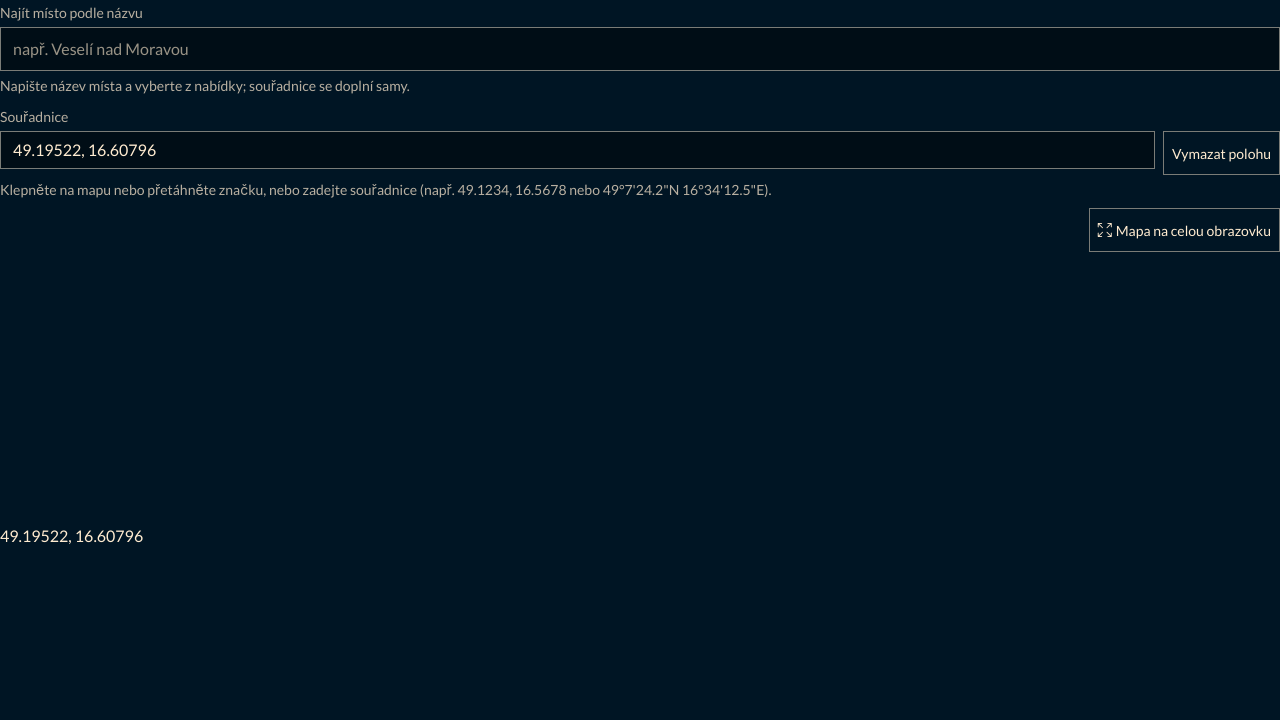
Test: LocationPicker full screen › moves the one map into a dialog and back
Click the button "Mapa na celou obrazovku": (1184, 230) x1=1089 y1=208 x2=1279 y2=252
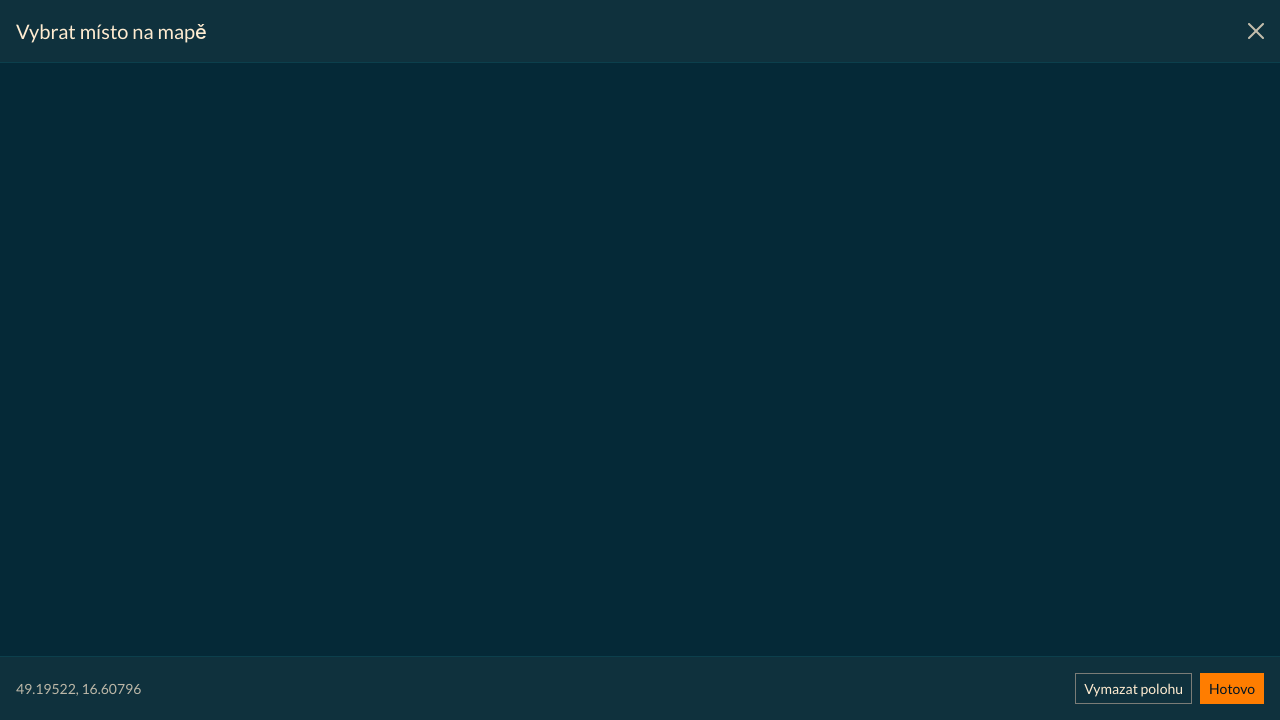
Now the text "49.19522, 16.60796" is shown, box x1=16 y1=678 x2=141 y2=699
Click the button "Hotovo": (1232, 688) x1=1200 y1=673 x2=1264 y2=704
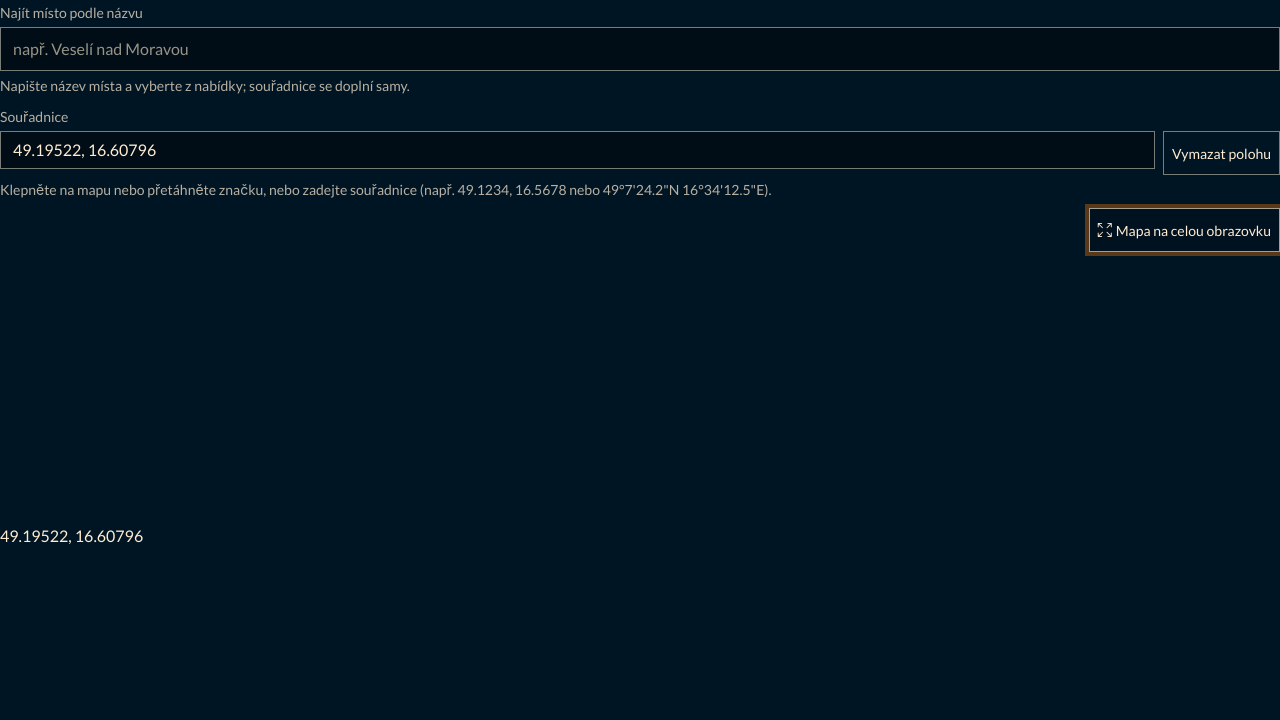
Now the dialog is gone
